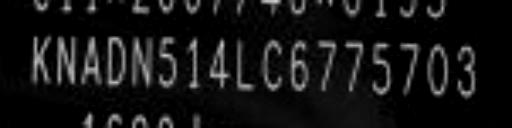letter: (230, 30, 260, 93), (424, 40, 454, 100), (203, 37, 233, 93), (338, 36, 366, 96), (370, 36, 396, 99), (26, 30, 54, 86), (128, 33, 156, 89), (396, 40, 424, 96), (102, 30, 128, 90), (78, 33, 104, 93), (258, 33, 284, 93), (454, 43, 480, 103), (312, 37, 338, 93), (182, 33, 206, 93), (288, 37, 312, 93), (54, 33, 78, 87), (156, 33, 178, 89)
